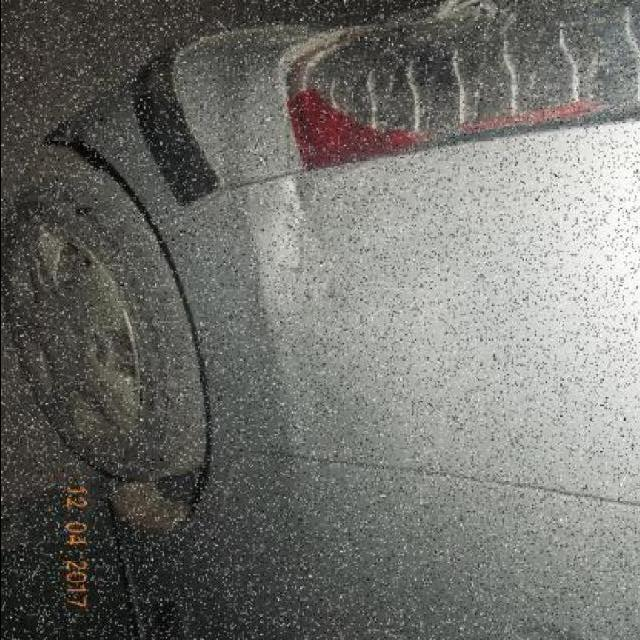quaterpanel-dent: (64, 149, 493, 460)
